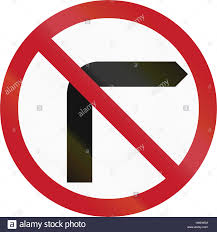No_right_turn: (2, 1, 216, 217)
